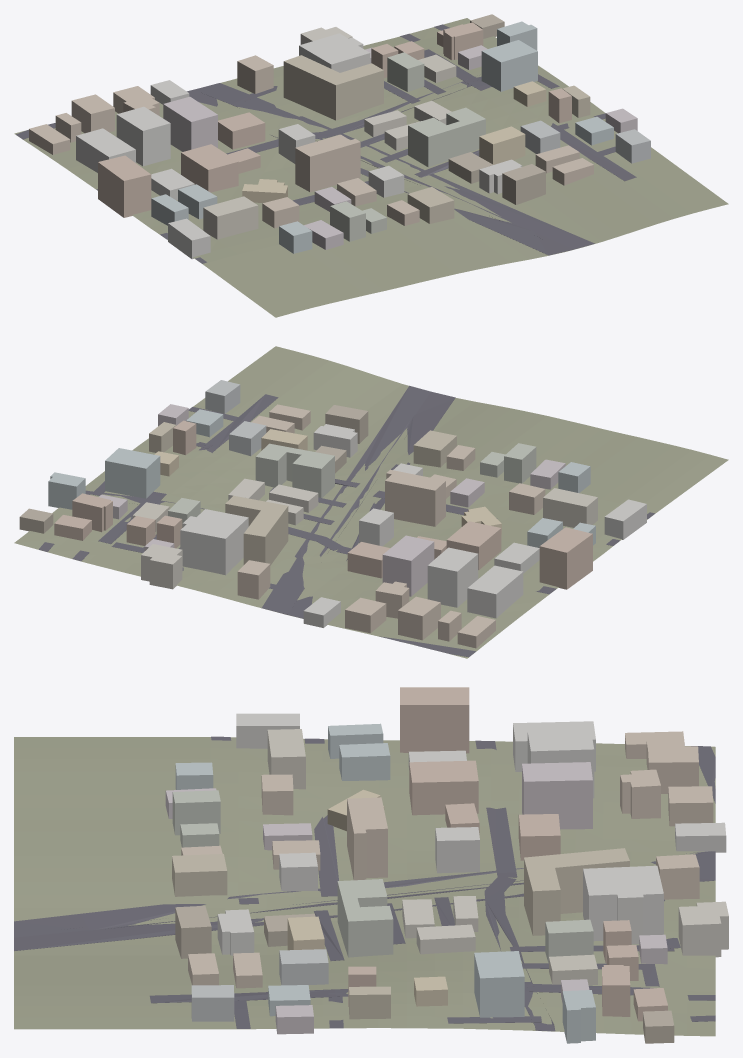
The model's file is chunk_3_9.glb.
3 views of the same model, one above another, from view 1: azimuth 30°, elevation 25°; view 2: azimuth 150°, elevation 25°; view 3: azimuth 270°, elevation 25° (orthographic). The views are drawn at different scales.
Parts seen in each view (by area): view 1: geometry_63, geometry_2, geometry_75, geometry_17, geometry_37, geometry_42, geometry_13, geometry_55, geometry_20, geometry_64, geometry_18, geometry_26 (+49 smaller); view 2: geometry_63, geometry_26, geometry_75, geometry_17, geometry_2, geometry_37, geometry_42, geometry_13, geometry_55, geometry_64, geometry_20, geometry_8 (+43 smaller); view 3: geometry_63, geometry_26, geometry_2, geometry_42, geometry_64, geometry_20, geometry_17, geometry_18, geometry_55, geometry_37, geometry_75, geometry_32 (+57 smaller).
Part boxes in pixels (x1,y1,x2,y2): geometry_63: (14,18,728,317); geometry_2: (283,55,383,120); geometry_75: (197,83,594,249); geometry_17: (408,107,485,167); geometry_37: (295,134,360,192); geometry_42: (98,155,151,217); geometry_13: (116,106,170,166); geometry_55: (481,40,537,91); geometry_20: (163,96,217,151); geometry_64: (187,88,572,255); geometry_18: (181,144,238,192); geometry_26: (299,33,370,72); geometry_63: (14,346,728,658); geometry_26: (180,509,248,575); geometry_75: (262,385,430,613); geometry_17: (255,443,334,497); geometry_2: (225,495,288,565); geometry_37: (385,469,445,526); geometry_42: (539,527,592,589); geometry_13: (427,547,478,607); geometry_55: (105,448,160,498); geometry_64: (283,391,455,618); geometry_20: (382,535,434,596); geometry_8: (467,565,523,618); geometry_63: (14,737,715,1036); geometry_26: (583,865,663,944); geometry_2: (524,848,629,935); geometry_42: (400,687,469,753); geometry_64: (14,851,715,937); geometry_20: (522,762,592,829); geometry_17: (337,879,393,957); geometry_18: (409,760,478,815); geometry_55: (474,951,524,1017); geometry_37: (347,797,387,880); geometry_75: (14,865,715,950); geometry_32: (678,901,728,957).
Bounding box in the file's own units: 262 × 21.95 × 255.
